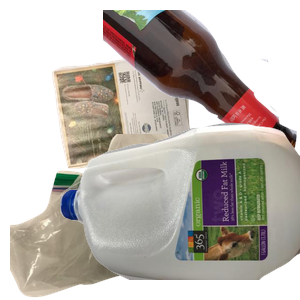glass: (103, 10, 300, 163)
paper: (49, 51, 235, 212)
plastic: (60, 120, 300, 300)
trash: (10, 134, 250, 300)
